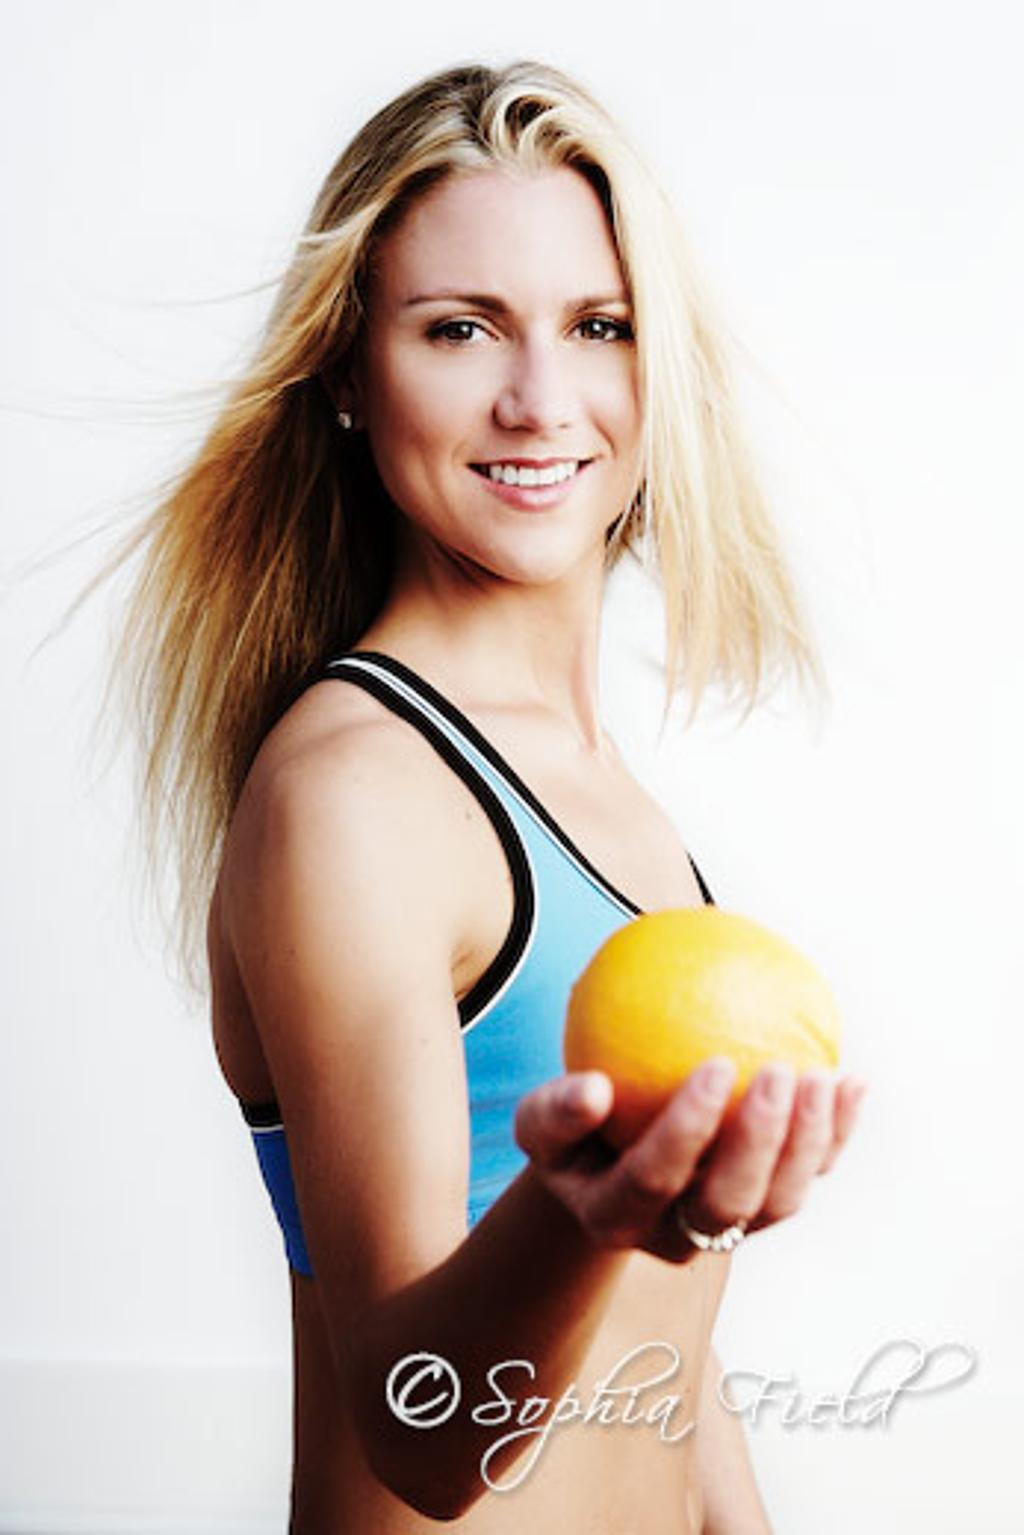face: (383, 162, 646, 584)
